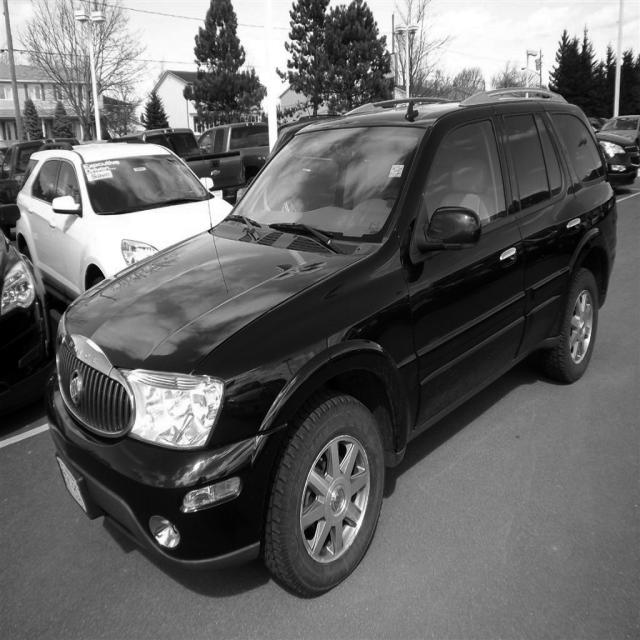car: (43, 85, 618, 598), (15, 141, 237, 305)
